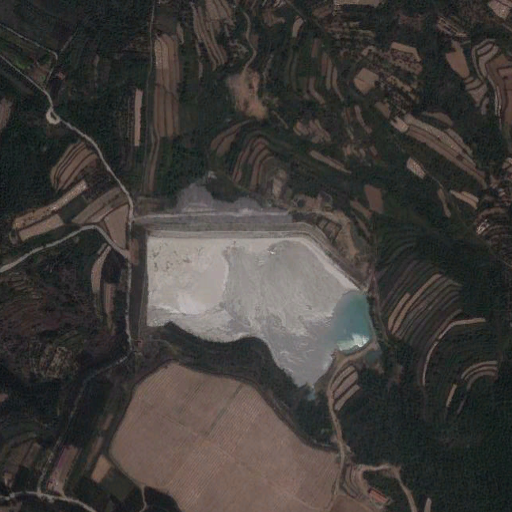tp: (128, 216, 380, 392)
